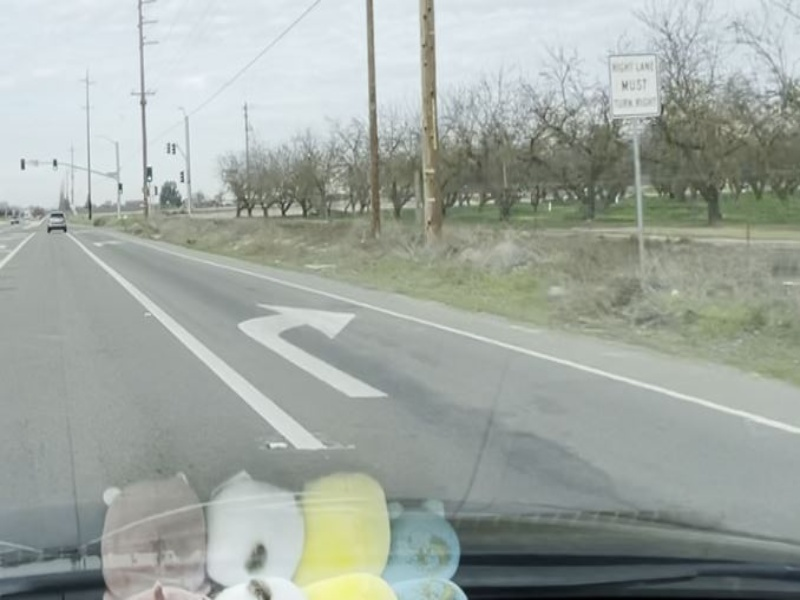merge sign: (606, 54, 660, 122)
